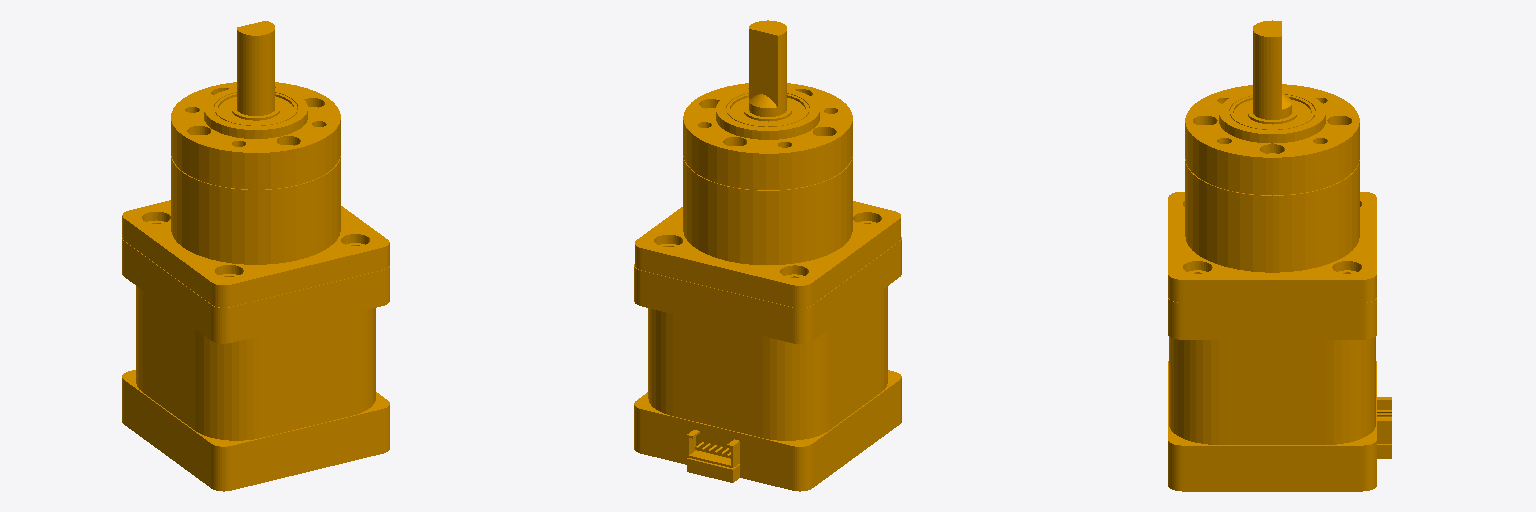
The robot description file, URDF, robot "motor_2_L0.79_T0.80":
<?xml version="1.0" encoding="utf-8"?>
<robot name="motor_2_L0.79_T0.80">
  <link name="motor_2_L0.79_T0.80Link">
    <contact>
      <lateral_friction value="1"/>
    </contact>
    <inertial>
      <origin rpy="0 0 0" xyz="0 0 0"/>
      <mass value="0.0"/>
      <inertia ixx="0" ixy="0" ixz="0" iyy="0" iyz="0" izz="0"/>
    </inertial>
    <visual>
      <origin rpy="0 0 0" xyz="0 0 0"/>
      <geometry>
        <mesh filename="generated_stl/motor/motor_2/motor_2_L0.79_T0.80/motor_2_L0.79_T0.80.stl" scale="0.01 0.01 0.01"/>
      </geometry>
    </visual>
    <collision>
      <origin rpy="0 0 0" xyz="0 0 0"/>
      <geometry>
        <mesh filename="generated_stl/motor/motor_2/motor_2_L0.79_T0.80/motor_2_L0.79_T0.80.stl" scale="0.01 0.01 0.01"/>
      </geometry>
    </collision>
  </link>
</robot>

--- Render facts (derived) ---
3 views of the same robot in one strip: view 1: azimuth 30°, elevation 25°; view 2: azimuth 150°, elevation 25°; view 3: azimuth 270°, elevation 25° (orthographic).
Robot: motor_2_L0.79_T0.80 — 1 links, 0 joints (none); root link motor_2_L0.79_T0.80Link; default pose: every joint at zero.
Links seen in each view (by area): view 1: motor_2_L0.79_T0.80Link; view 2: motor_2_L0.79_T0.80Link; view 3: motor_2_L0.79_T0.80Link.
Link boxes in pixels (x1,y1,x2,y2): motor_2_L0.79_T0.80Link: [122, 21, 389, 491]; motor_2_L0.79_T0.80Link: [634, 20, 901, 491]; motor_2_L0.79_T0.80Link: [1168, 20, 1391, 491].
Size in the robot's own frame: 0.0265 by 0.0284 by 0.0584 metres.
1 mesh visuals loaded from 1 distinct referenced files (1 binary STL).